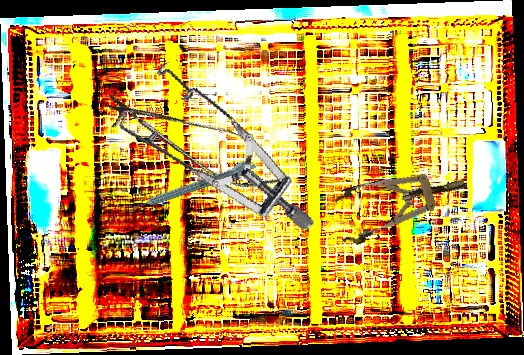Handpiece: (130, 156, 257, 213)
Micro Scissor: (92, 77, 301, 207)
Speculum: (95, 33, 317, 279), (329, 156, 473, 249)
